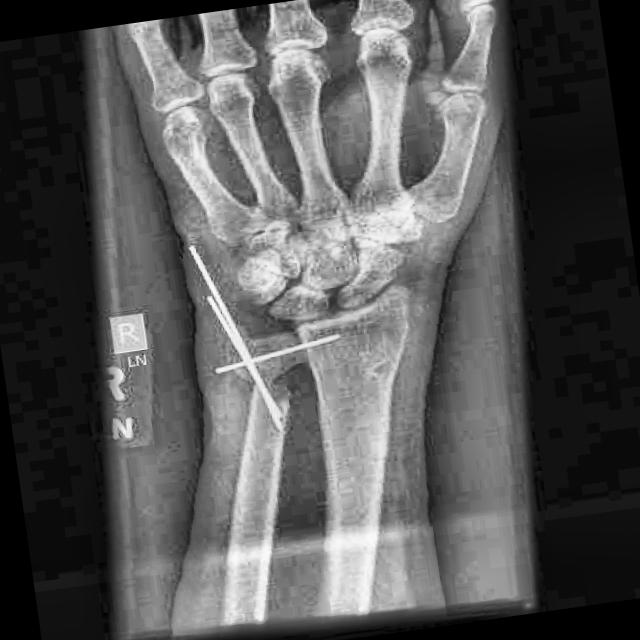fingers positive: (206, 310, 342, 433)
